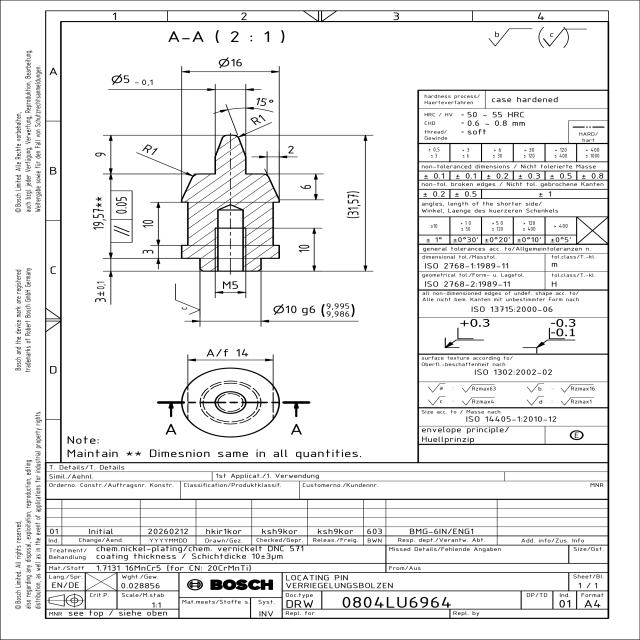dimension: (273, 303, 356, 318), (110, 74, 157, 86), (92, 196, 108, 230), (346, 190, 361, 220), (205, 348, 250, 358), (93, 280, 107, 304), (218, 57, 244, 69), (248, 113, 268, 128), (140, 142, 161, 156), (255, 96, 275, 107), (219, 280, 240, 290), (296, 243, 312, 254), (140, 219, 155, 229), (285, 144, 296, 154), (140, 248, 154, 255), (299, 184, 313, 190), (94, 151, 108, 157)
